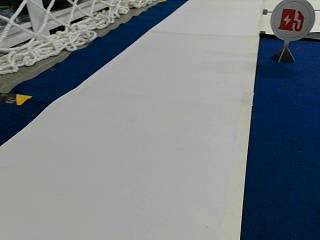battery: (269, 0, 315, 40)
